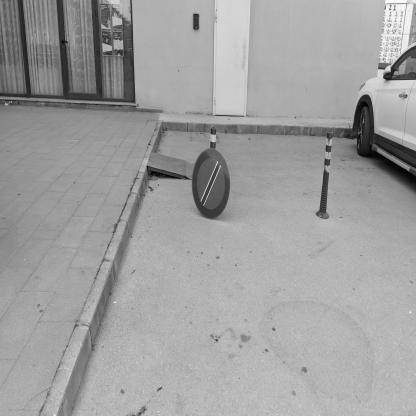No Waiting: (193, 149, 231, 221)
